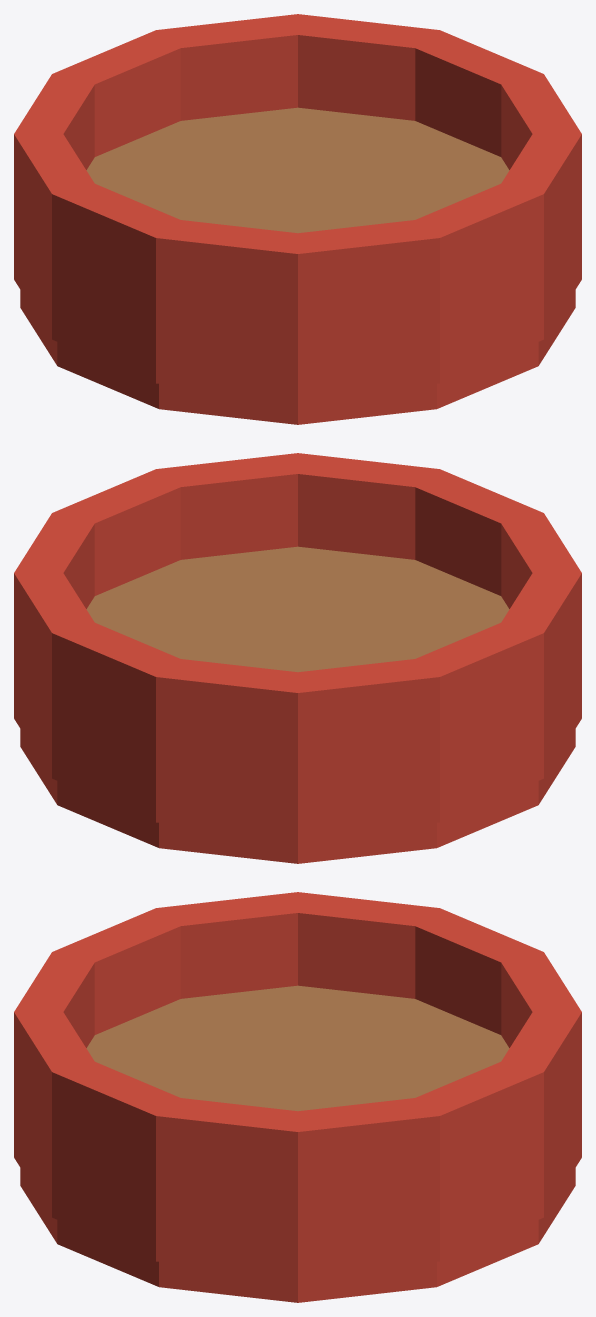
The model's file is CatCafe_Item_FoodBowl.glb.
The picture shows the model from 3 angles, top to bottom: view 1: azimuth 30°, elevation 25°; view 2: azimuth 150°, elevation 25°; view 3: azimuth 270°, elevation 25°; orthographic projection.
Visible parts, largest first — view 1: CatCafe_Item_FoodBowl; view 2: CatCafe_Item_FoodBowl; view 3: CatCafe_Item_FoodBowl.
Part boxes in pixels (x1,y1,x2,y2): CatCafe_Item_FoodBowl: (14,14,581,424); CatCafe_Item_FoodBowl: (14,453,581,863); CatCafe_Item_FoodBowl: (14,892,581,1302).
Size of the model in its own units: 0.92 by 0.31 by 0.92.
Materials: 1 (1 with a texture image).
